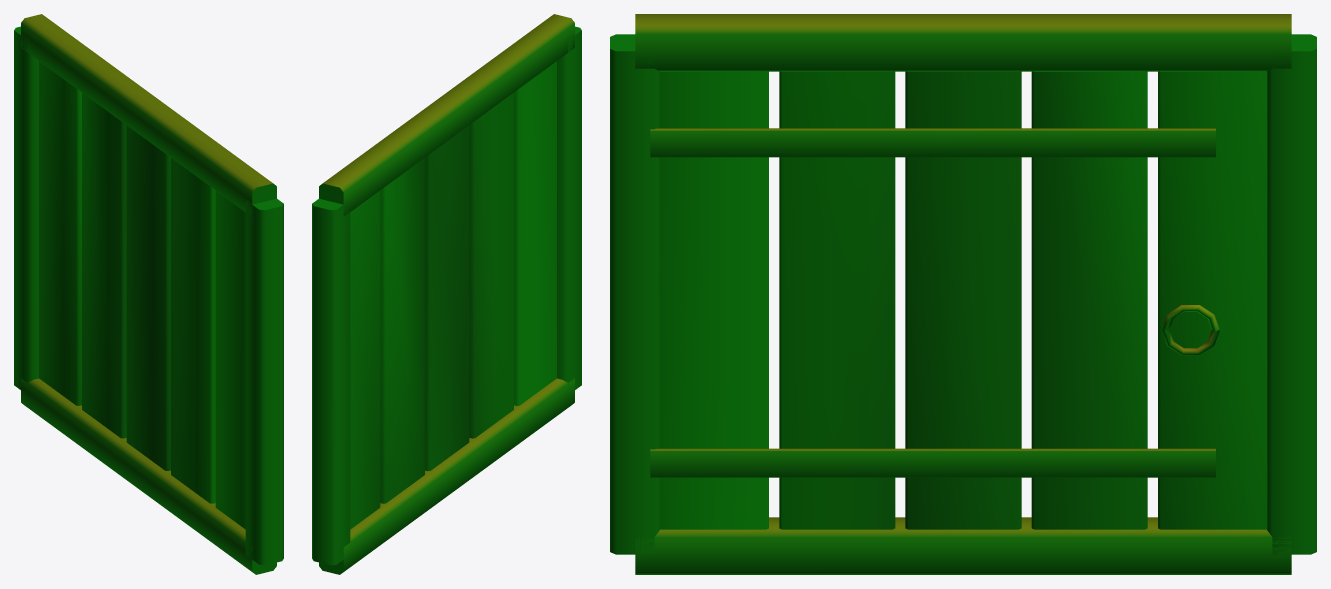
File: hatch.glb
3 views of the same model, side by side, from view 1: azimuth 30°, elevation 25°; view 2: azimuth 150°, elevation 25°; view 3: azimuth 270°, elevation 25° (orthographic). The views are drawn at different scales.
Visible parts, largest first — view 1: hatch; view 2: hatch; view 3: hatch.
Boxes of the visible parts, x1,y1,x2,y2 form: hatch: [14, 14, 283, 574]; hatch: [312, 14, 581, 574]; hatch: [610, 14, 1316, 574].
Size of what is drawn, in the model's own units: 0.108 by 1.2 by 1.4.
